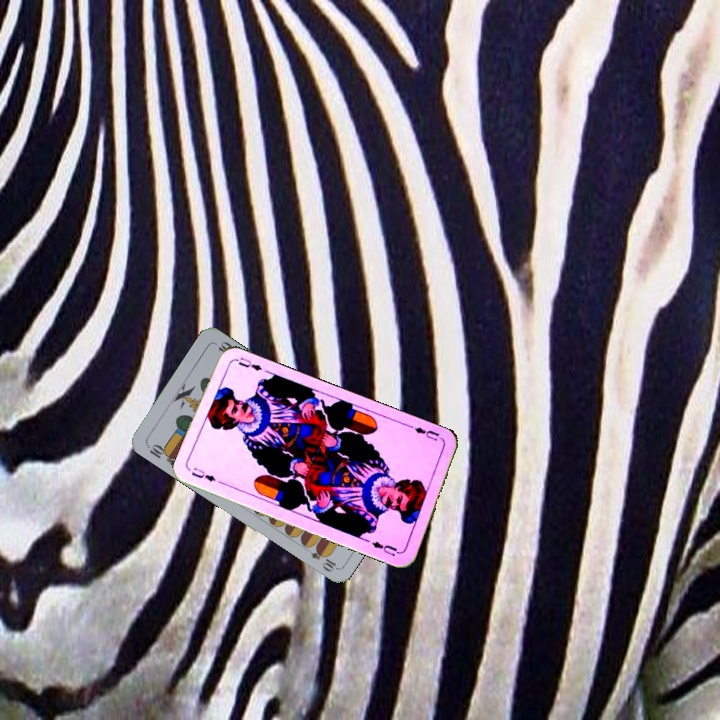E10: (143, 440, 182, 468)
EU: (406, 421, 445, 443), (187, 463, 218, 484)
